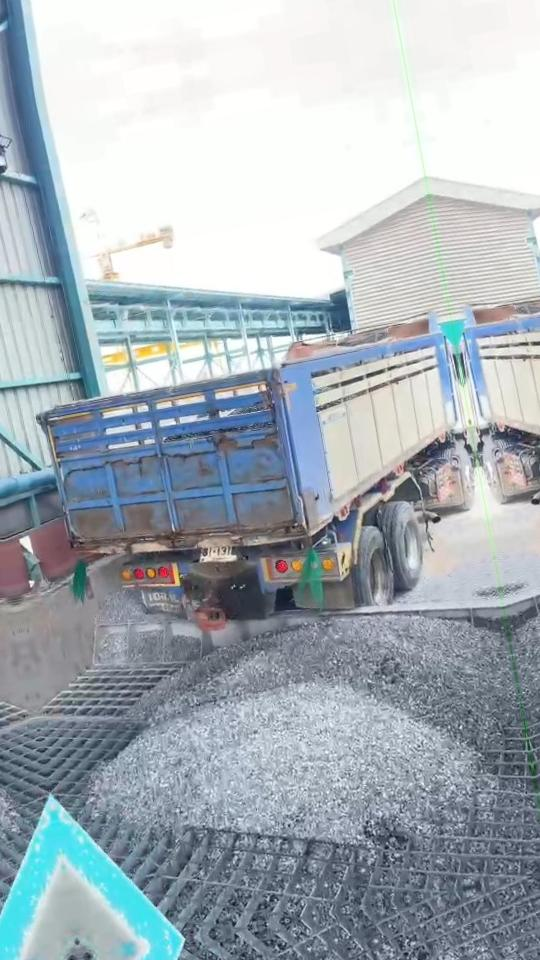gravel: (89, 610, 518, 835)
